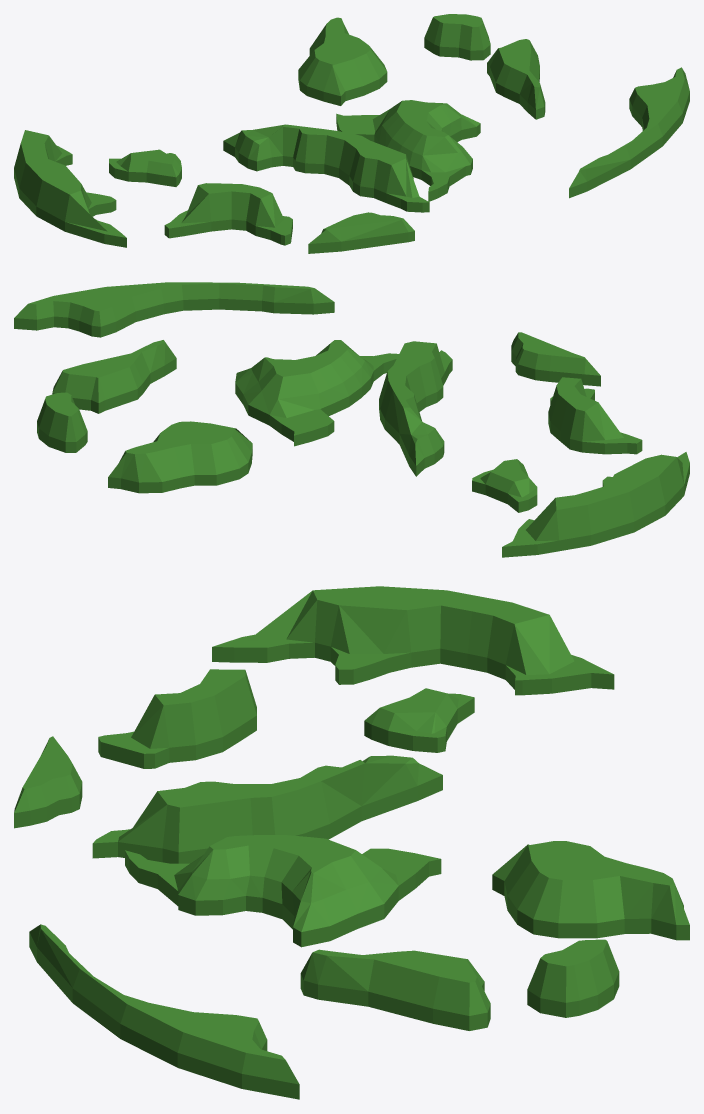
The model's file is enviBlocked_v3_block.fbx.
3 renders of one model, top to bottom at view 1: azimuth 30°, elevation 25°; view 2: azimuth 150°, elevation 25°; view 3: azimuth 270°, elevation 25°, orthographic. The views are drawn at different scales.
Visible parts, largest first — view 1: block_v3_tall_tris; view 2: block_v3_tall_tris; view 3: block_v3_tall_tris.
Boxes of the visible parts, bbox=[...] form: block_v3_tall_tris: bbox=[14, 14, 689, 253]; block_v3_tall_tris: bbox=[14, 282, 689, 557]; block_v3_tall_tris: bbox=[14, 586, 689, 1099].
Bounding box in the file's own units: 12828 × 703 × 7891.
